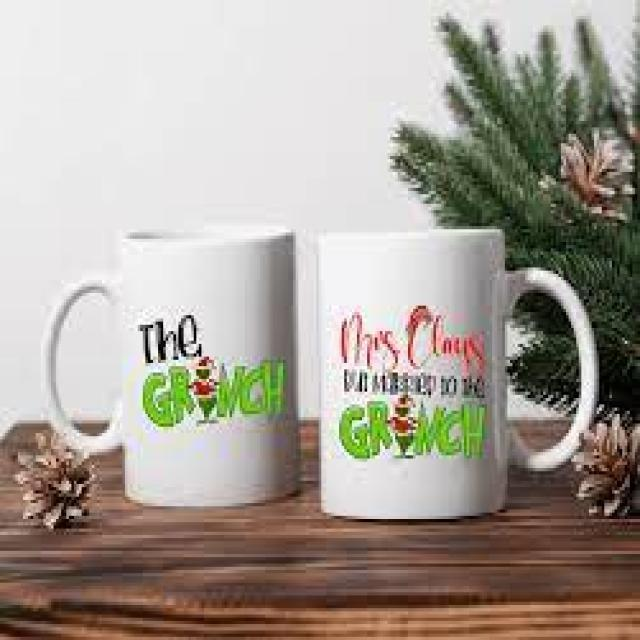taza: (308, 198, 600, 530), (35, 200, 302, 518)
